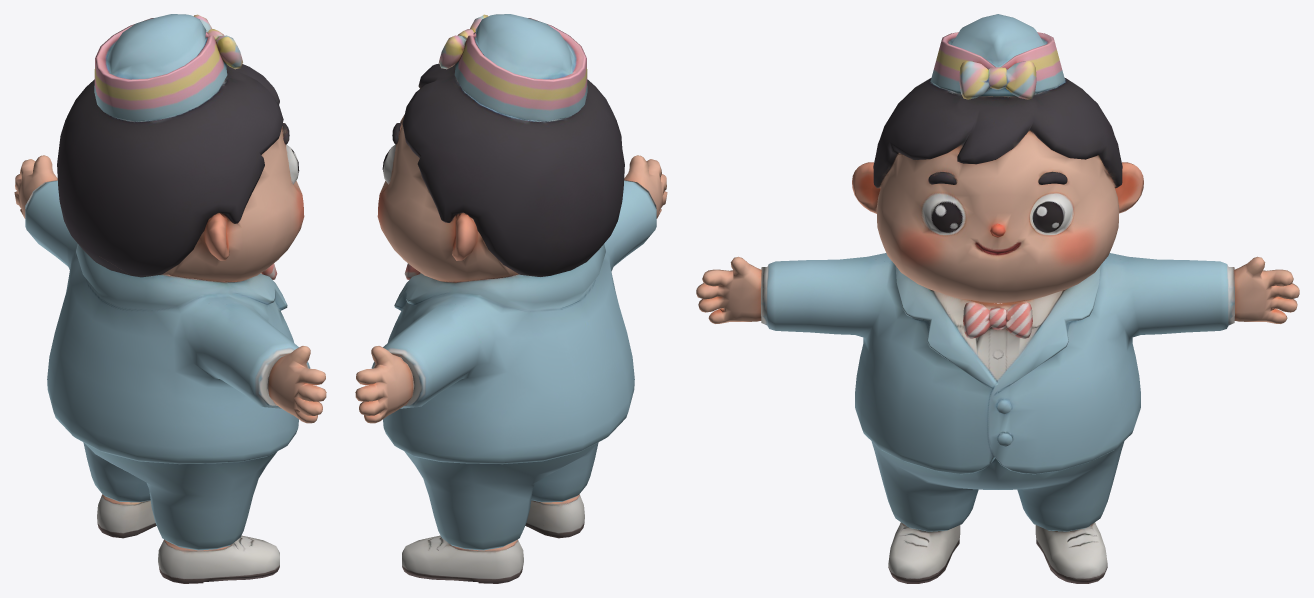
File: COMMON_캐릭터_owner_casualpoly.glb
3 views of the same model, side by side, from view 1: azimuth 30°, elevation 25°; view 2: azimuth 150°, elevation 25°; view 3: azimuth 270°, elevation 25° (orthographic).
Visible parts, largest first — view 1: tripo_node_3b69df18-972f-4e44-82af-c705dd15206c; view 2: tripo_node_3b69df18-972f-4e44-82af-c705dd15206c; view 3: tripo_node_3b69df18-972f-4e44-82af-c705dd15206c.
Boxes of the visible parts, x1,y1,x2,y2 form: tripo_node_3b69df18-972f-4e44-82af-c705dd15206c: (14,14,326,583); tripo_node_3b69df18-972f-4e44-82af-c705dd15206c: (355,14,667,583); tripo_node_3b69df18-972f-4e44-82af-c705dd15206c: (696,14,1299,583).
Bounding box in the file's own units: 0.4097 × 0.9722 × 0.9995.
1 material, 1 textured.
